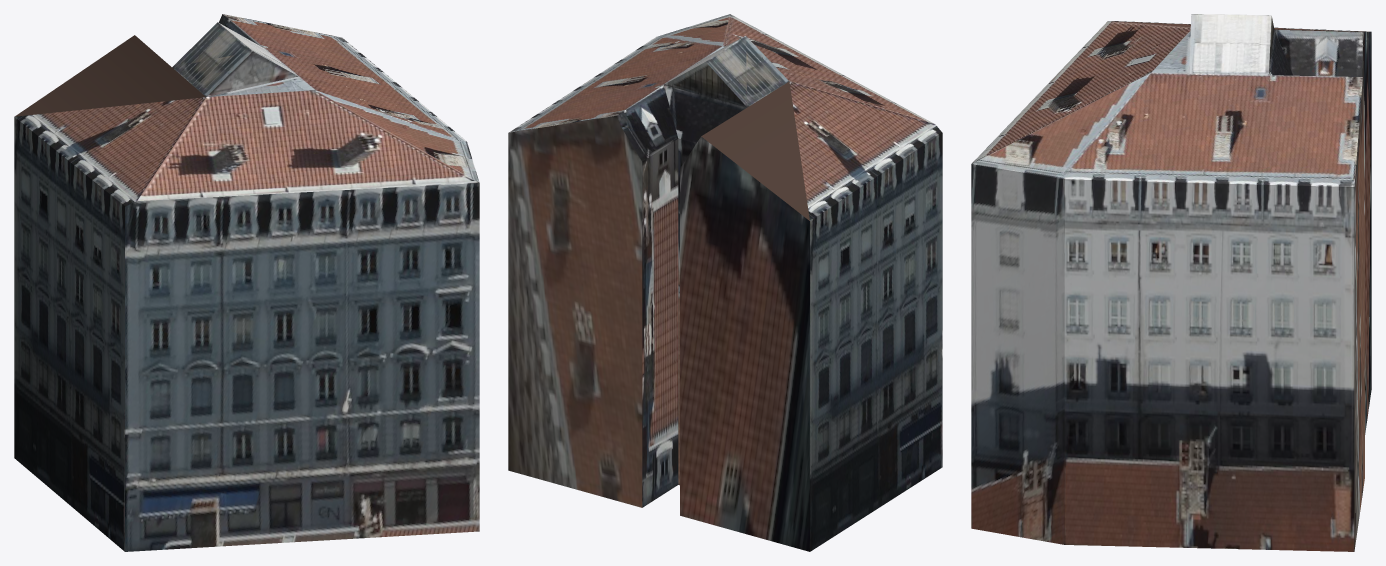
3 renders of one model, left to right at view 1: azimuth 30°, elevation 25°; view 2: azimuth 150°, elevation 25°; view 3: azimuth 270°, elevation 25°, orthographic. The views are drawn at different scales.
Visible parts, largest first — view 1: Z_UP; view 2: Z_UP; view 3: Z_UP.
Part boxes in pixels (box(x1,y1,x2,y2)): Z_UP: box(14, 14, 479, 551); Z_UP: box(508, 14, 942, 551); Z_UP: box(971, 14, 1371, 551).
Bounding box in the file's own units: 22.6 × 28.12 × 22.52.
2 materials, 1 textured.
